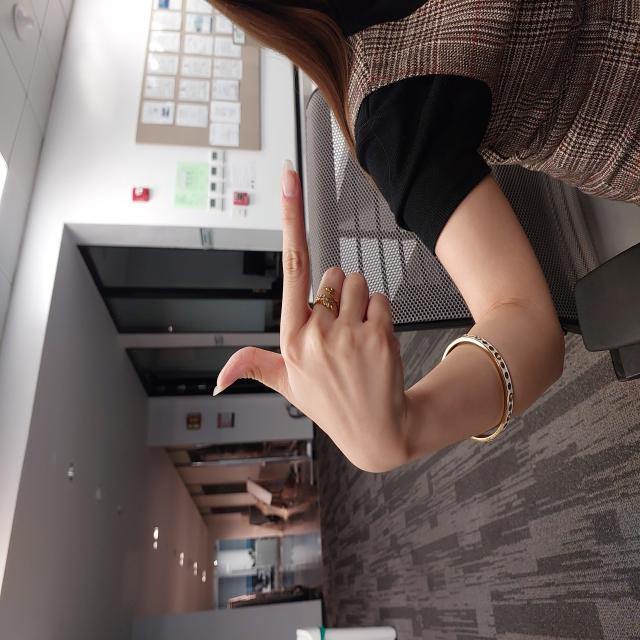G: (164, 214, 483, 414)
